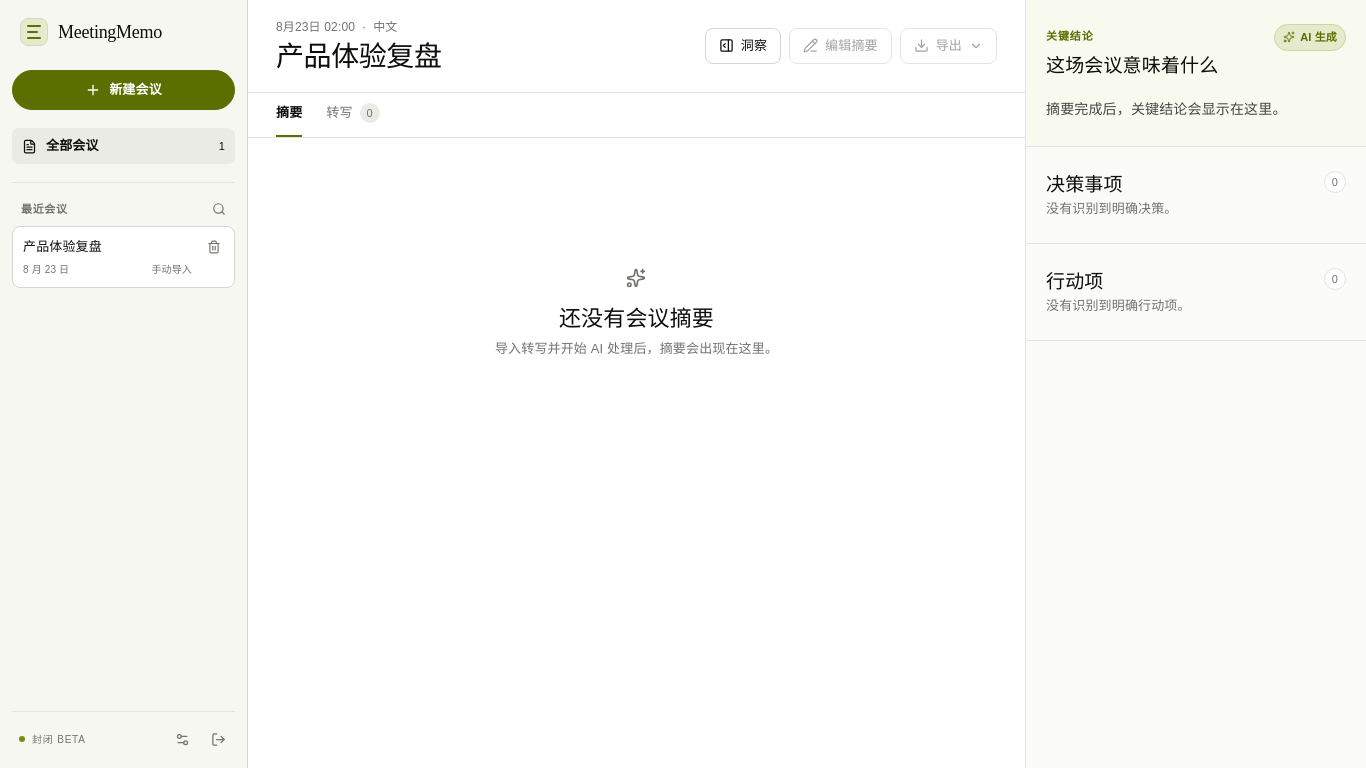
MeetingMemoApp › keeps the historical meeting and reports a deletion failure
The width and height of the screenshot is (1366, 768).
Expected: the heading "产品体验复盘" is shown, [276, 40, 442, 74]
Click the button named "删除会议 产品体验复盘".
click(214, 246)  # box [199, 232, 229, 262]
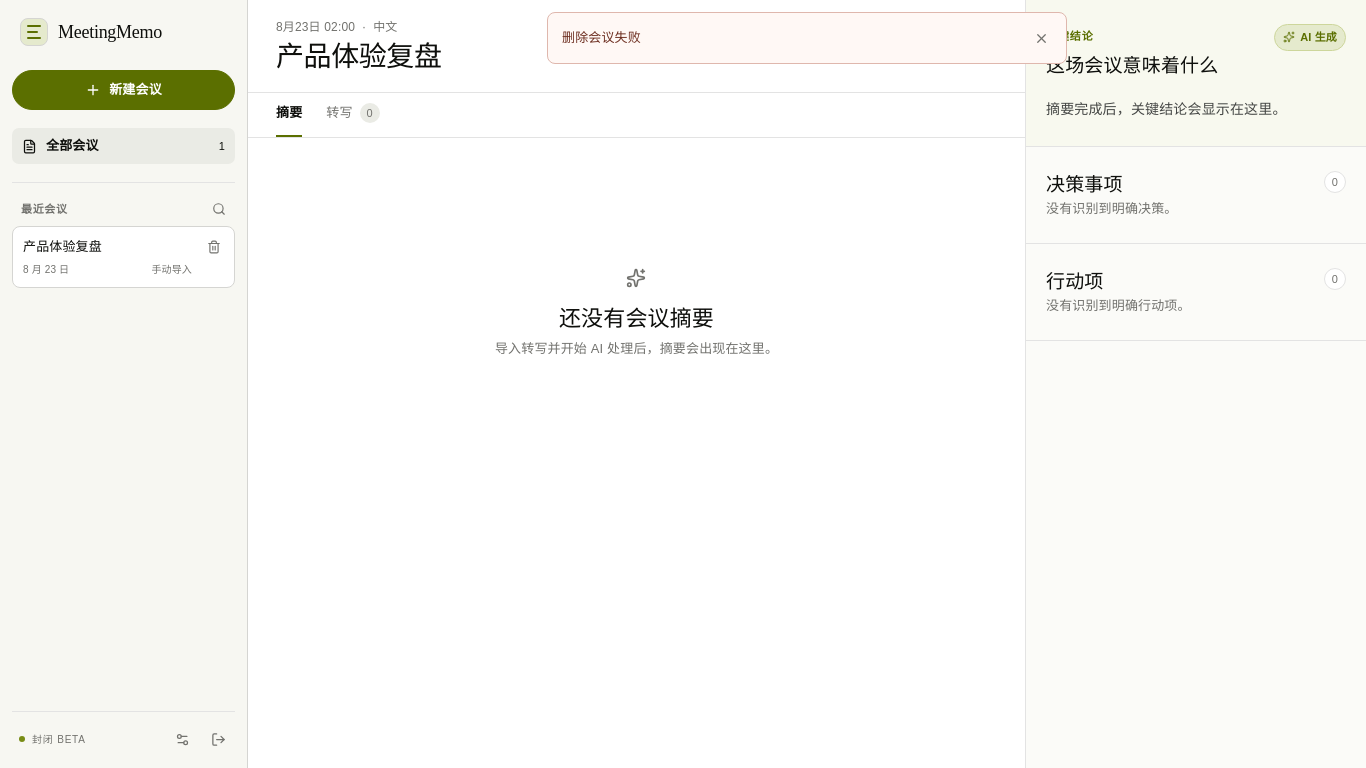
Expected: the button with aria-label "打开会议 产品体验复盘" is shown, [12, 226, 235, 288]
Expected: the message reads "删除会议失败", [562, 30, 641, 45]
